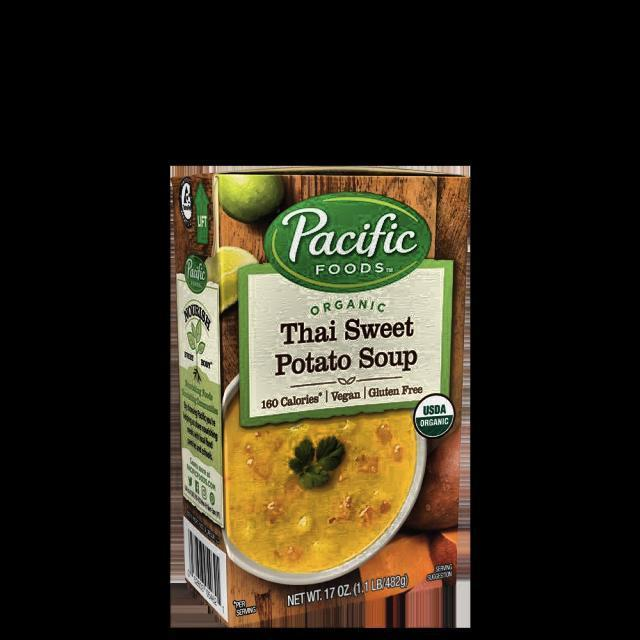cardboard: (169, 166, 471, 628)
